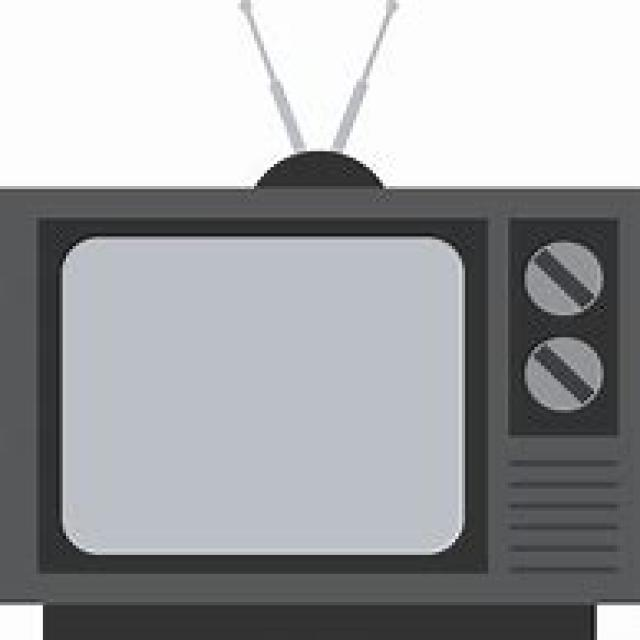tv: (0, 183, 637, 637)
